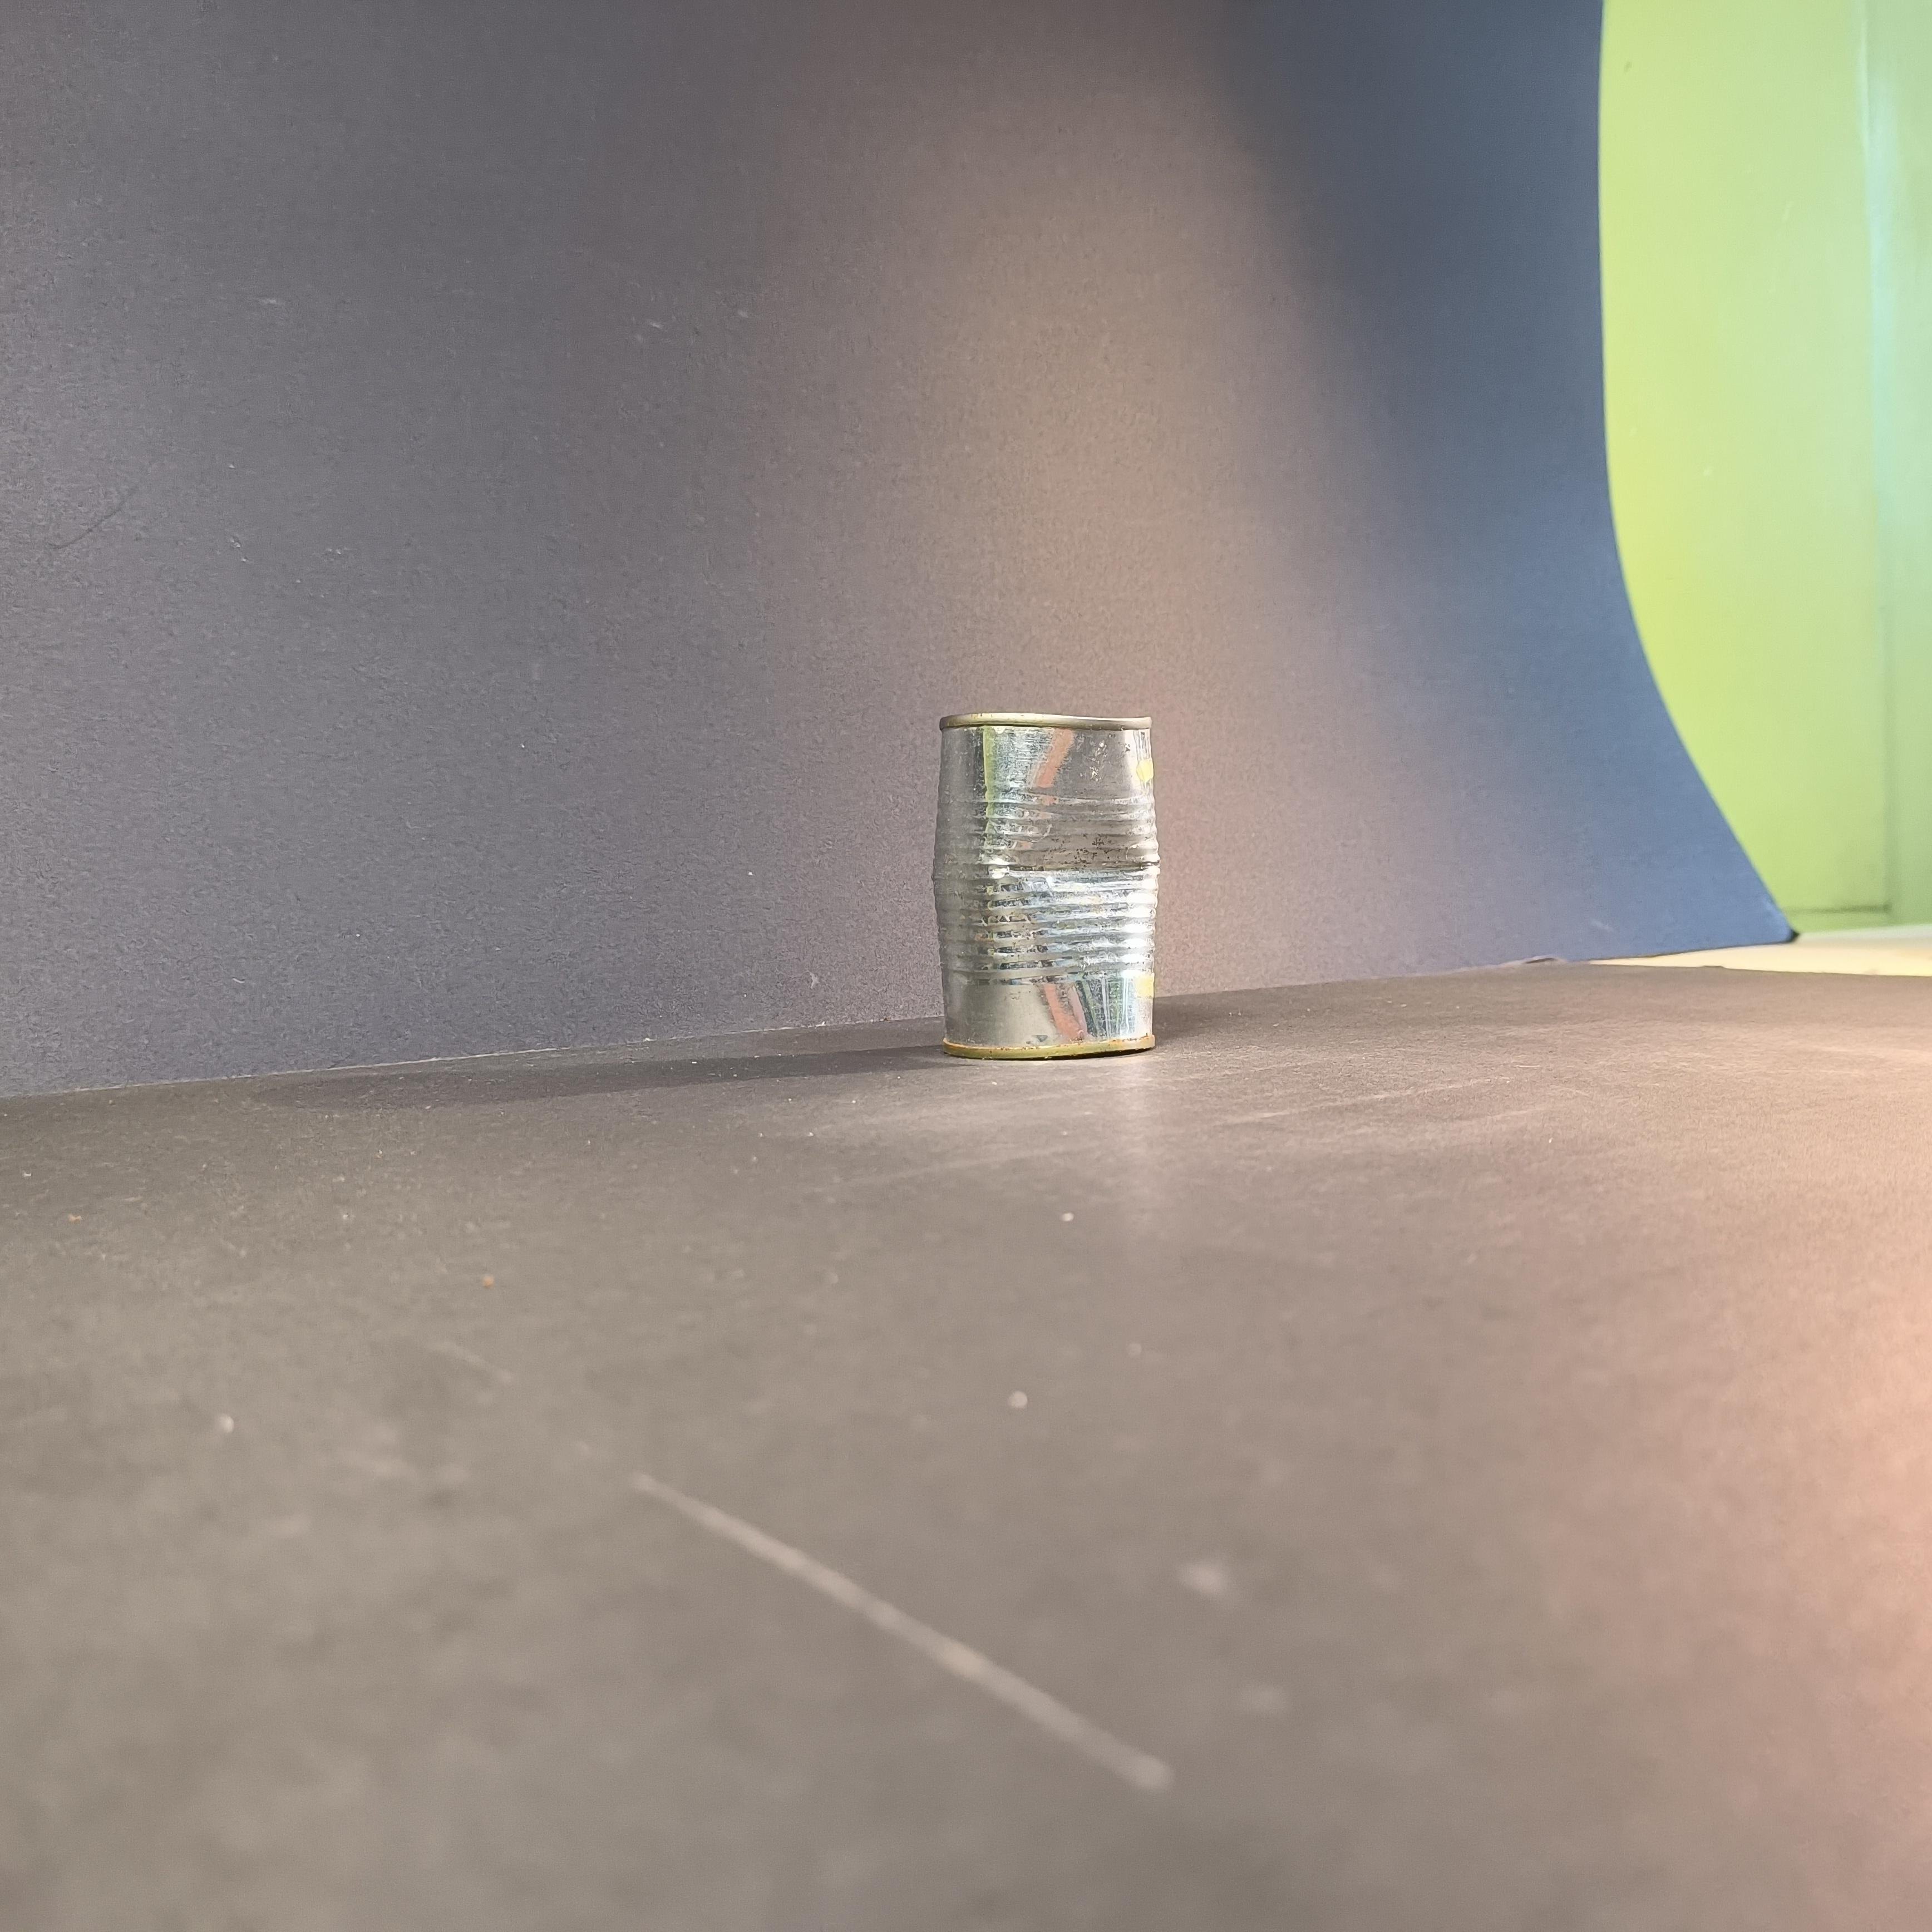Dented: (915, 685, 1180, 1074)
